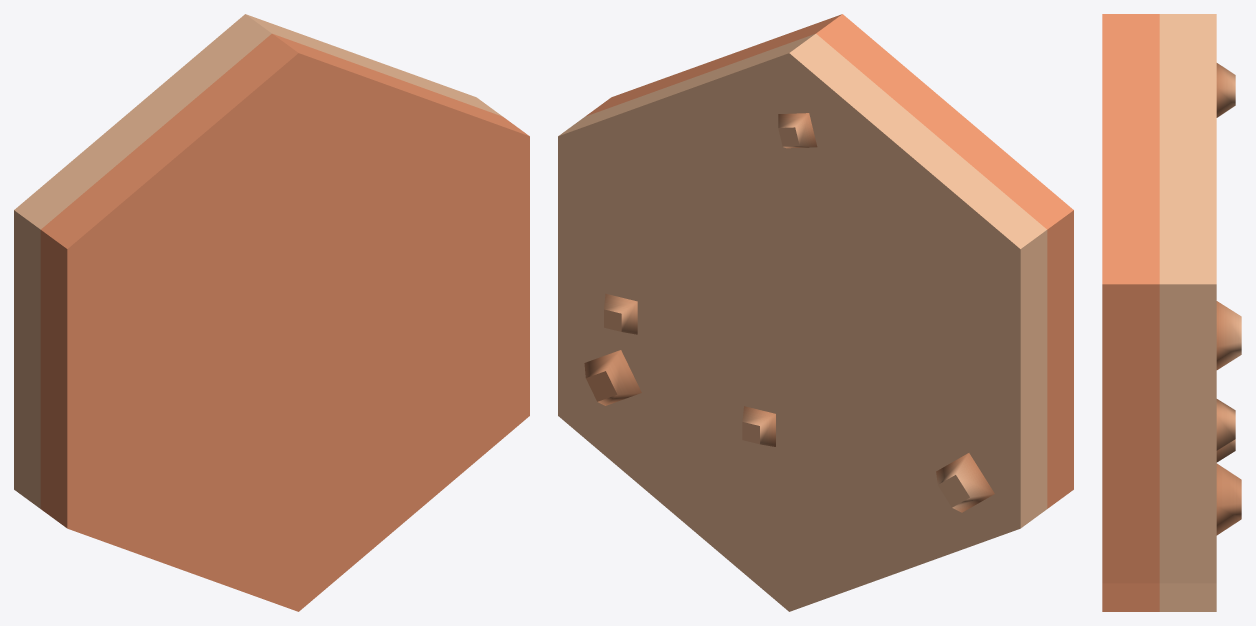
Rendered from sand-rocks.obj.
3 views of the same model, side by side, from view 1: azimuth 30°, elevation 25°; view 2: azimuth 150°, elevation 25°; view 3: azimuth 270°, elevation 25° (orthographic). The views are drawn at different scales.
Visible parts, largest first — view 1: sand-rocks.008; view 2: sand-rocks.008; view 3: sand-rocks.008.
Part boxes in pixels (<box>): sand-rocks.008: <box>14,14,529,611</box>; sand-rocks.008: <box>558,14,1073,611</box>; sand-rocks.008: <box>1102,14,1241,611</box>.
Bounding box in the file's own units: 1 × 1.15 × 0.2435.
1 material, 1 textured.
